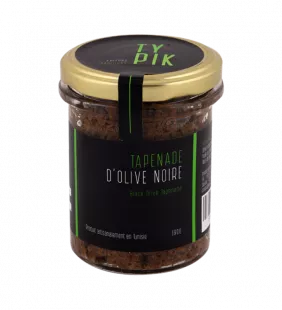TYPIK: (52, 28, 235, 283)
